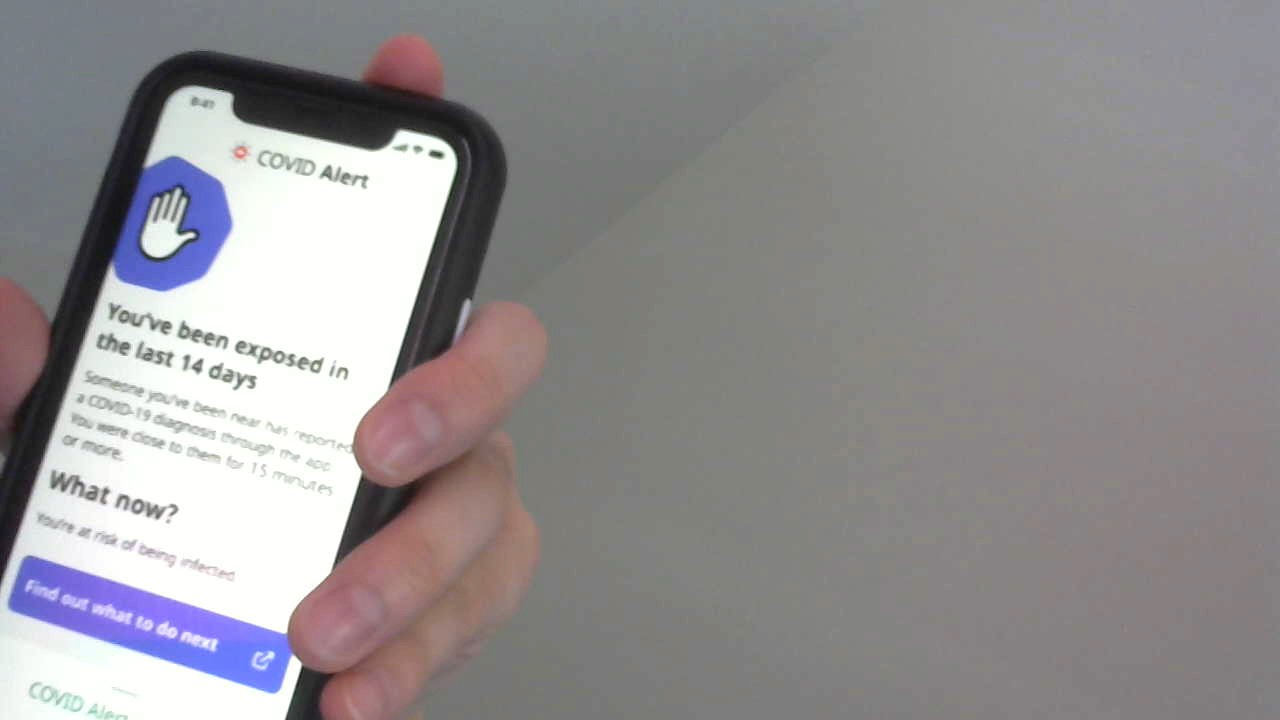Exposed: (84, 138, 408, 399)
